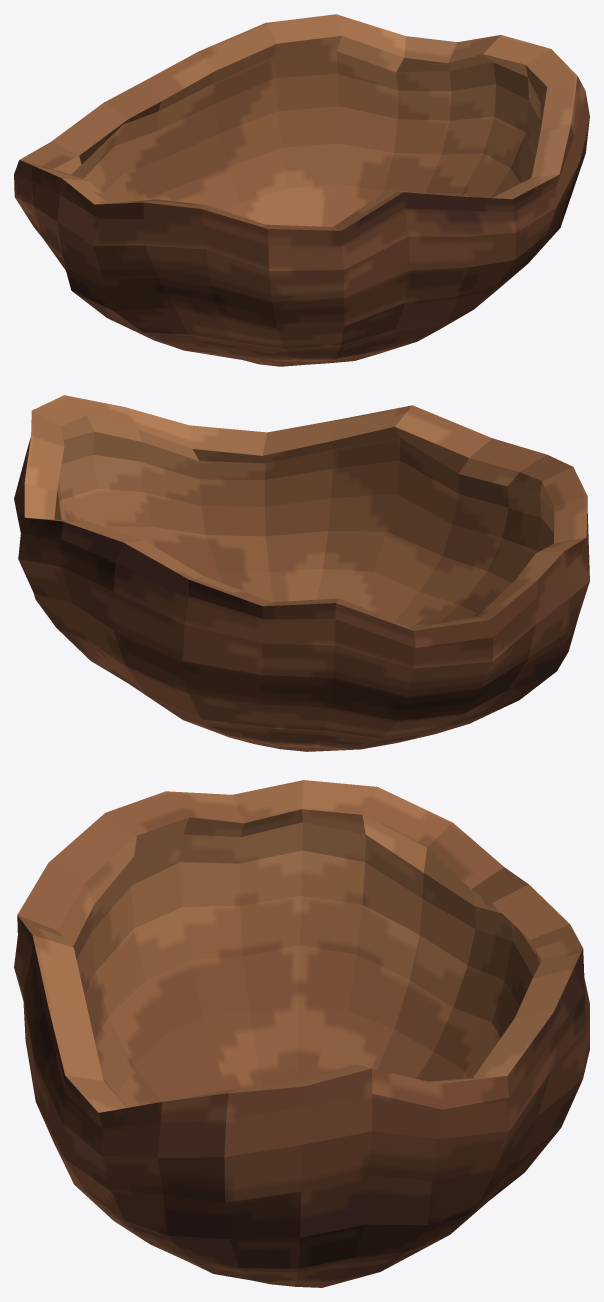
The model's file is SM_AN21_WalnutBowl.fbx.
3 views of the same model, one above another, from view 1: azimuth 30°, elevation 25°; view 2: azimuth 150°, elevation 25°; view 3: azimuth 270°, elevation 25° (orthographic). The views are drawn at different scales.
Visible parts, largest first — view 1: AN21a_Props; view 2: AN21a_Props; view 3: AN21a_Props.
Part boxes in pixels (x1,y1,x2,y2): AN21a_Props: [14, 14, 589, 366]; AN21a_Props: [14, 395, 589, 751]; AN21a_Props: [14, 780, 589, 1287].
Bounding box in the file's own units: 1.51 × 0.6563 × 1.12.
